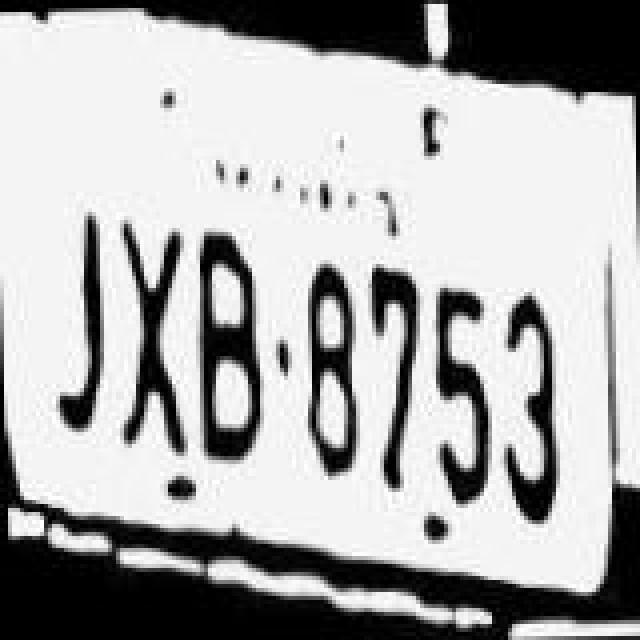3: (496, 290, 576, 534)
5: (420, 270, 496, 518)
7: (360, 246, 428, 506)
8: (290, 238, 362, 502)
B: (182, 206, 266, 470)
J: (40, 196, 120, 444)
X: (104, 190, 192, 454)
